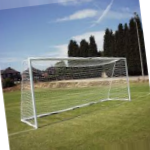goals: (18, 55, 132, 128)
